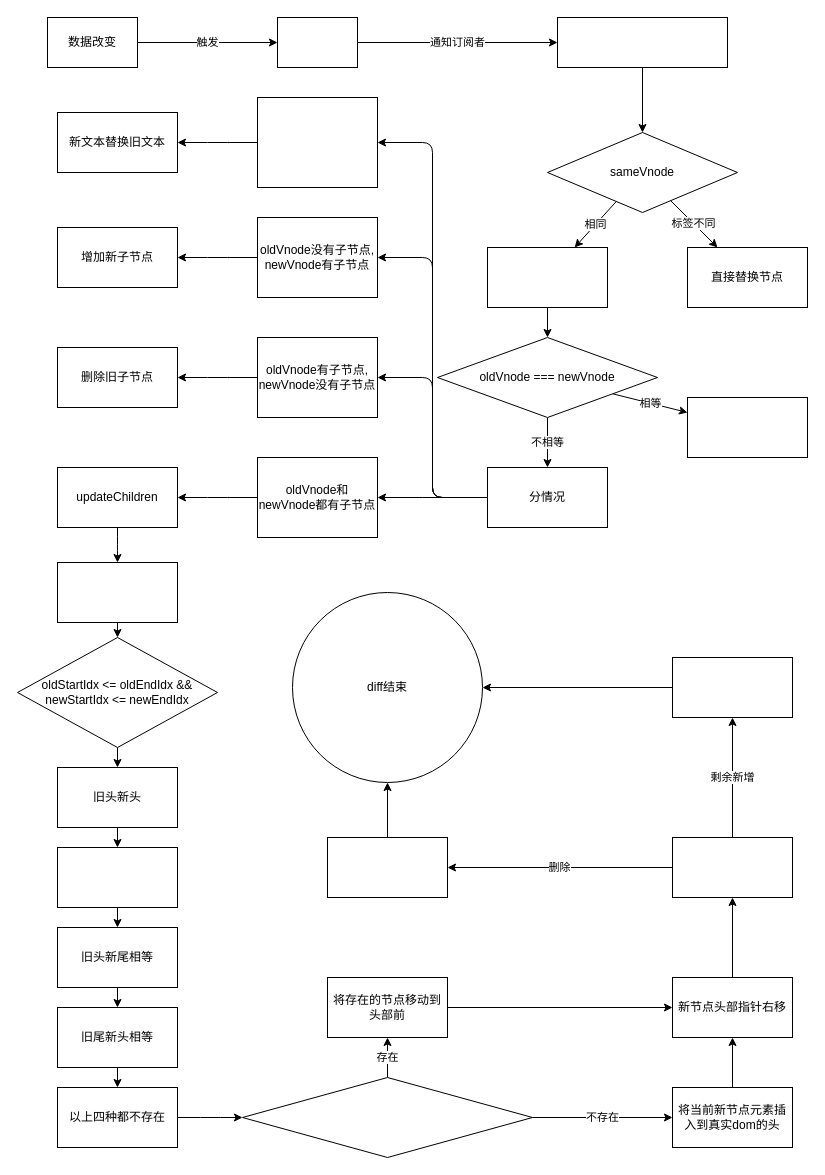
Some shapes in this 825 by 1175 pixel diagram are drawn without their labels. Each missing label, with the centre of its shape:
"oldVnode和newVnode都有文本节点" goes at point 317,142.
"patch(oldVnode, newVnode)" goes at point 642,42.
"patchVnode" goes at point 547,277.
"return" goes at point 747,427.
"setter" goes at point 317,42.
"使用双端双指针对比" goes at point 117,592.
"将newVnode中剩余元素插入到真实dom节点" goes at point 732,687.
"将oldVnode中多余元素从真实dom节点删除" goes at point 387,867.
"将当前新头和旧节点剩余元素一一比对" goes at point 387,1117.
"循环结束" goes at point 732,867.
"旧尾新尾" goes at point 117,877.
